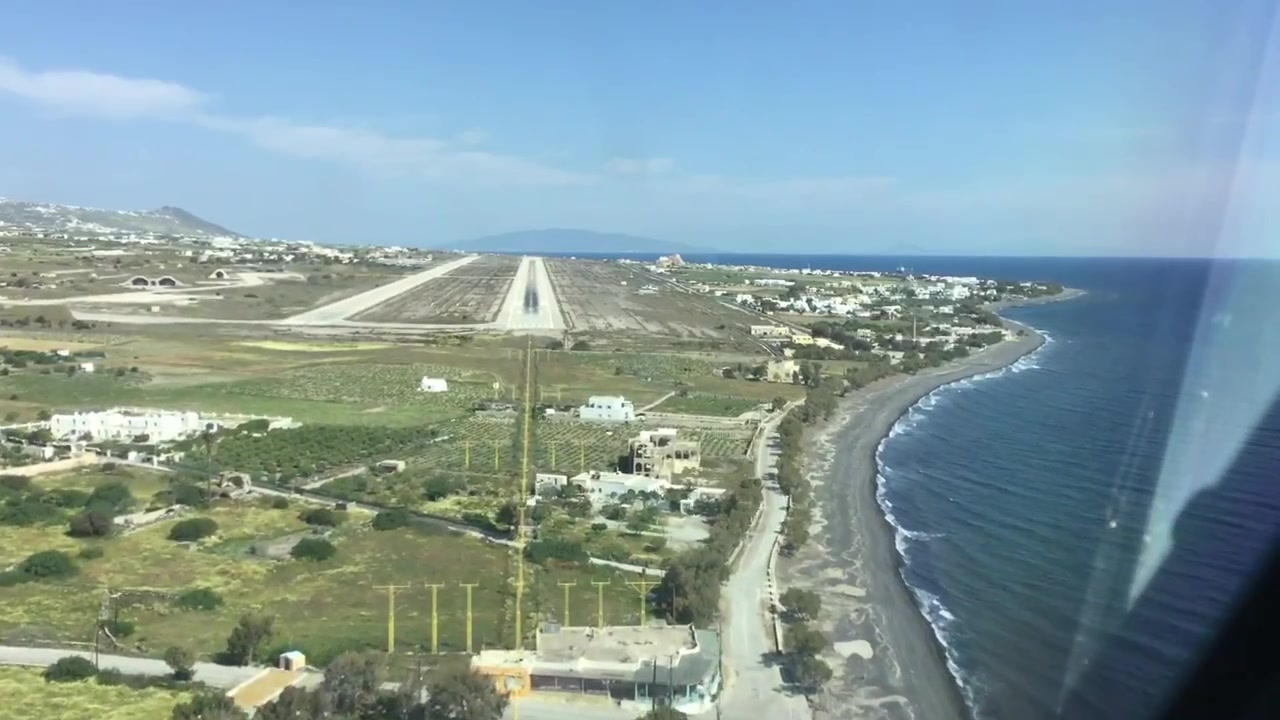entrance: (511, 323, 552, 329)
runway: (294, 256, 474, 325), (492, 258, 565, 331)
